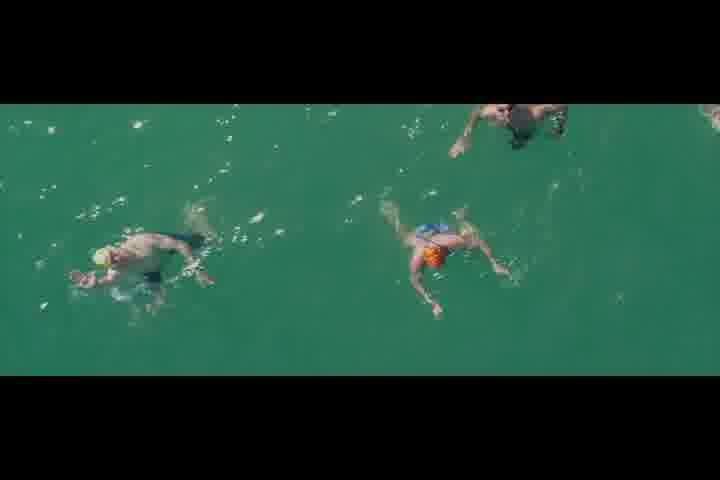human: (63, 197, 217, 316), (379, 194, 511, 323), (446, 102, 574, 167)
